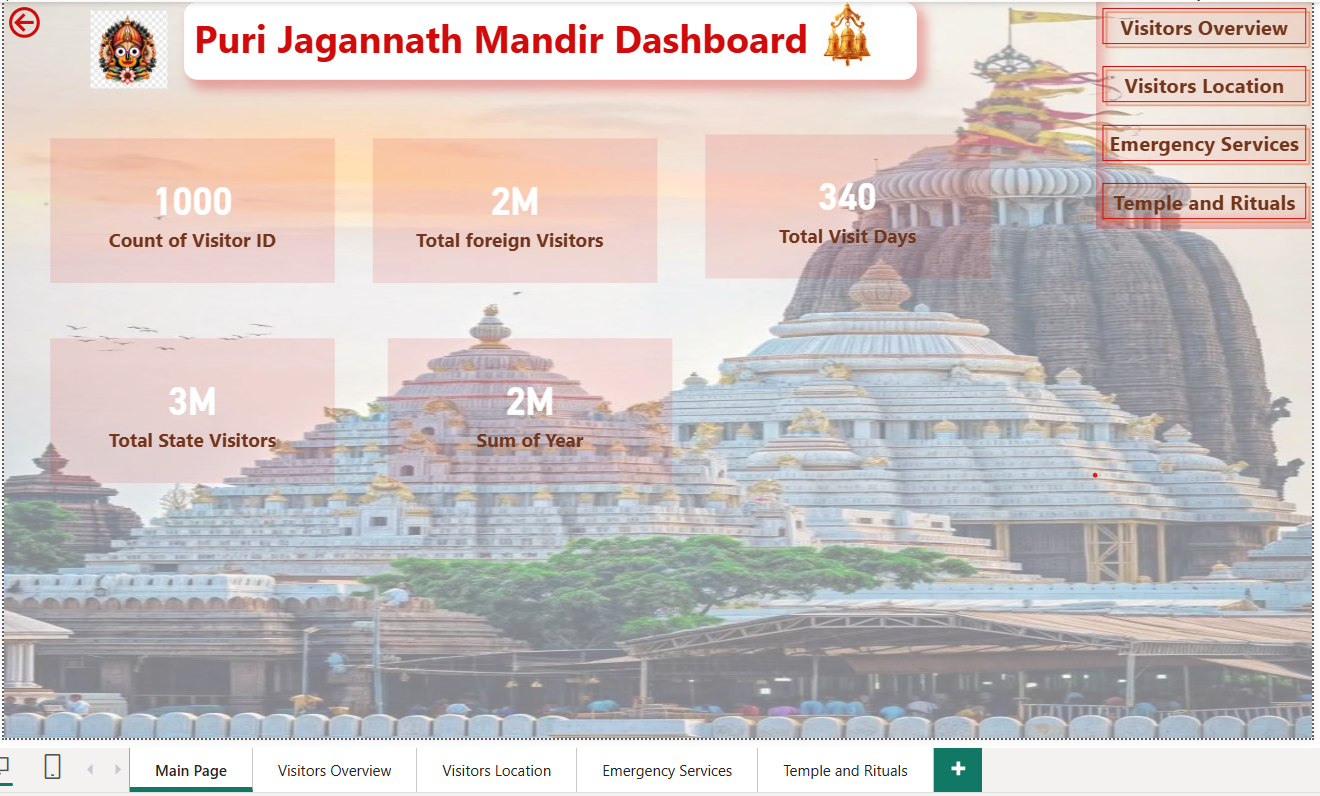

Layout of this report page (visuals, bound fields, positions):
{"tool":"powerbi","page":{"name":"Main Page","canvas":[1280,720],"ordinal":0},"visuals":[{"type":"textbox","box":[175.7,0,717.1,75.7],"z":0},{"type":"card","fields":{"Values":["CountNonNull(Sheet.Visitor ID)"]},"box":[45.3,133.1,278.6,141.3],"z":1000},{"type":"card","fields":{"Values":["Sheet.TotalforeignVisitors"]},"box":[360.9,133.1,278.6,141.3],"z":2000},{"type":"card","fields":{"Values":["Sheet.Total Visit Days"]},"box":[686,129.6,278.8,140.6],"z":3000},{"type":"card","fields":{"Values":["Sheet.Total State Visitors"]},"box":[45.3,329.3,278.6,141.3],"z":4000},{"type":"card","fields":{"Values":["Sum(Sheet.Year)"]},"box":[376,329.3,278.6,141.3],"z":5000},{"type":"image","box":[80.7,8.6,83.2,75.8],"z":6000},{"type":"image","box":[782.9,0,85.7,62.9],"z":7000},{"type":"actionButton","box":[0,0,100,40],"z":8000},{"type":"pageNavigator","box":[1068.8,0,211.6,221.3],"z":9000}]}

Visuals, with their boxes on the page's 1280x720 design canvas (x1, y1, x2, y2). These are canvas units, not pixel positions in the 1320x796 screenshot, which may show the page scaled, cropped or inside an application window:
textbox: x1=176 y1=0 x2=893 y2=76
card - CountNonNull(Sheet.Visitor ID): x1=45 y1=133 x2=324 y2=274
card - Sheet.TotalforeignVisitors: x1=361 y1=133 x2=640 y2=274
card - Sheet.Total Visit Days: x1=686 y1=130 x2=965 y2=270
card - Sheet.Total State Visitors: x1=45 y1=329 x2=324 y2=471
card - Sum(Sheet.Year): x1=376 y1=329 x2=655 y2=471
image: x1=81 y1=9 x2=164 y2=84
image: x1=783 y1=0 x2=869 y2=63
actionButton: x1=0 y1=0 x2=100 y2=40
pageNavigator: x1=1069 y1=0 x2=1280 y2=221
